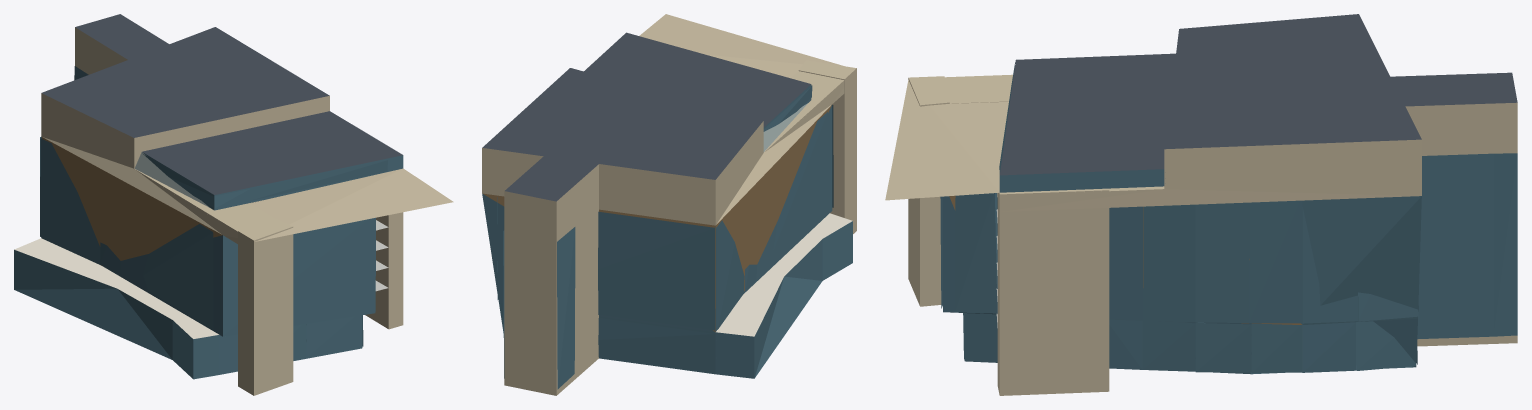
File: oba-oosterdok.lod2.glb
3 views of the same model, side by side, from view 1: azimuth 30°, elevation 25°; view 2: azimuth 150°, elevation 25°; view 3: azimuth 270°, elevation 25° (orthographic). The views are drawn at different scales.
Visible parts, largest first — view 1: lod2; view 2: lod2; view 3: lod2.
Boxes of the visible parts, x1,y1,x2,y2 form: lod2: (14,14,453,395); lod2: (482,14,856,395); lod2: (885,14,1517,395).
Size of the model in its own units: 53.59 by 36.2 by 86.32.
